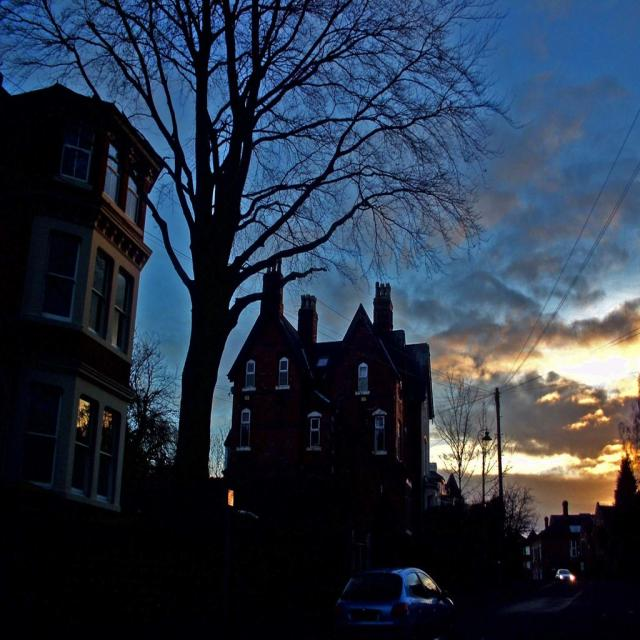car: (555, 569, 572, 579)
